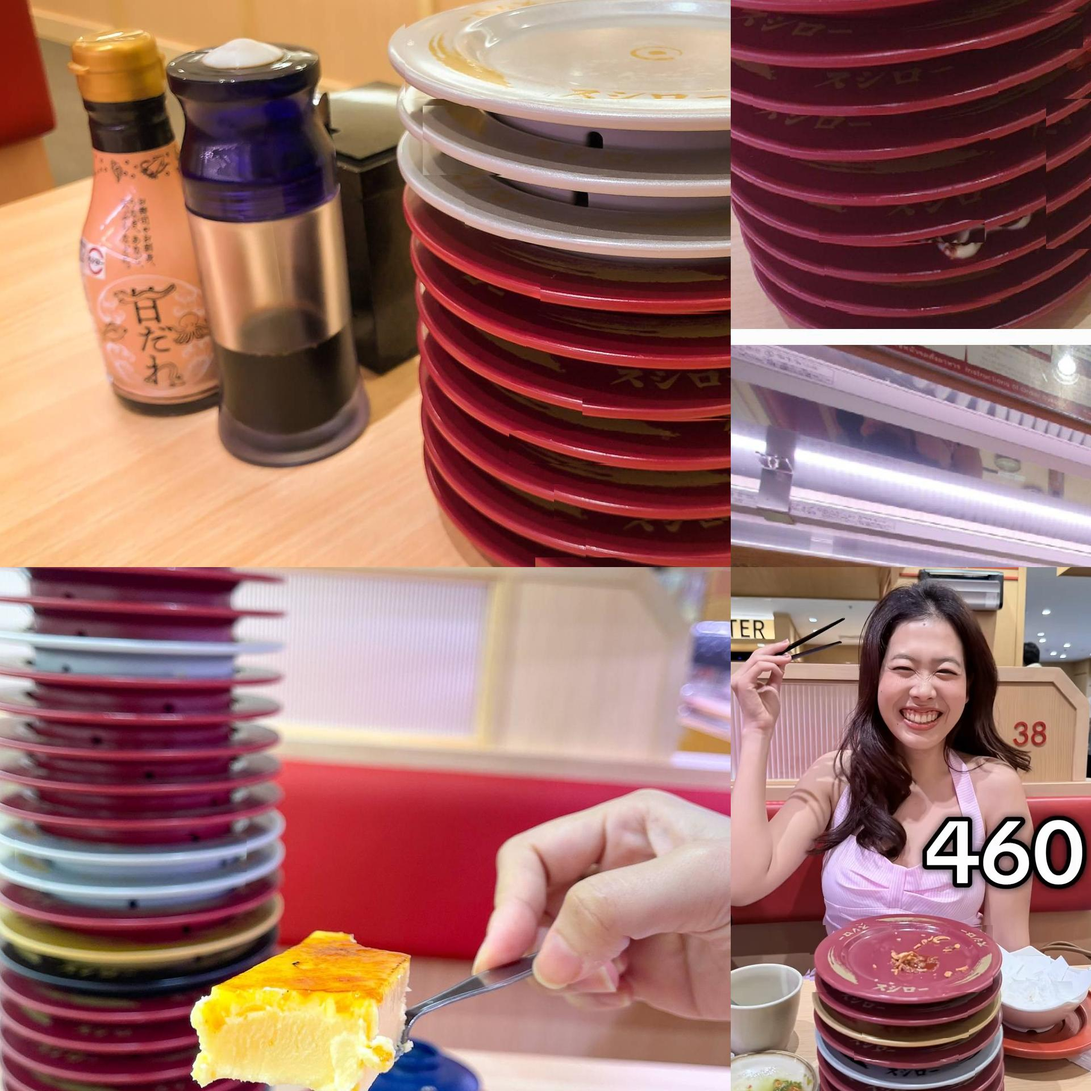Janback: (30, 959, 220, 984)
Jangold: (10, 934, 242, 958), (858, 1026, 973, 1039)
Janred: (731, 12, 1089, 49), (807, 924, 996, 994), (746, 73, 1006, 116), (29, 601, 276, 641), (20, 567, 259, 605), (1040, 86, 1091, 262), (525, 330, 731, 373), (41, 717, 262, 756), (518, 276, 731, 315), (782, 170, 1017, 204), (503, 430, 731, 464), (24, 684, 269, 715), (545, 483, 731, 522), (41, 793, 240, 829), (777, 137, 1003, 163), (19, 995, 178, 1031), (34, 763, 242, 790), (821, 263, 1026, 288), (807, 219, 996, 244), (28, 1058, 189, 1084), (569, 536, 731, 560), (565, 397, 731, 420), (823, 999, 972, 1019), (19, 1036, 169, 1054), (513, 555, 731, 567), (820, 300, 1007, 313), (51, 914, 223, 928), (847, 1049, 966, 1062)
Janwhite: (393, 0, 731, 101), (415, 105, 731, 176), (452, 174, 731, 241), (11, 836, 251, 873), (0, 644, 270, 673), (34, 875, 252, 900), (845, 1065, 978, 1086)
